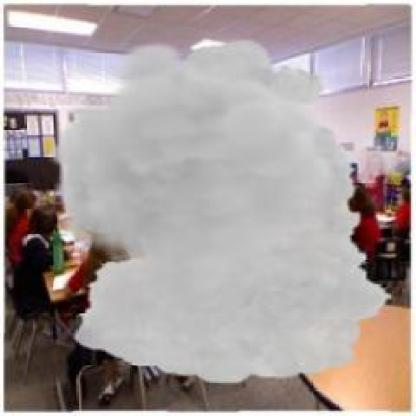Smoke: (46, 38, 394, 385)
